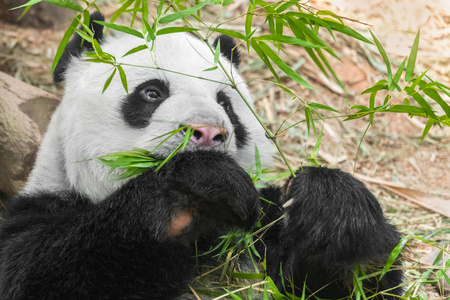panda: (12, 17, 402, 297)
